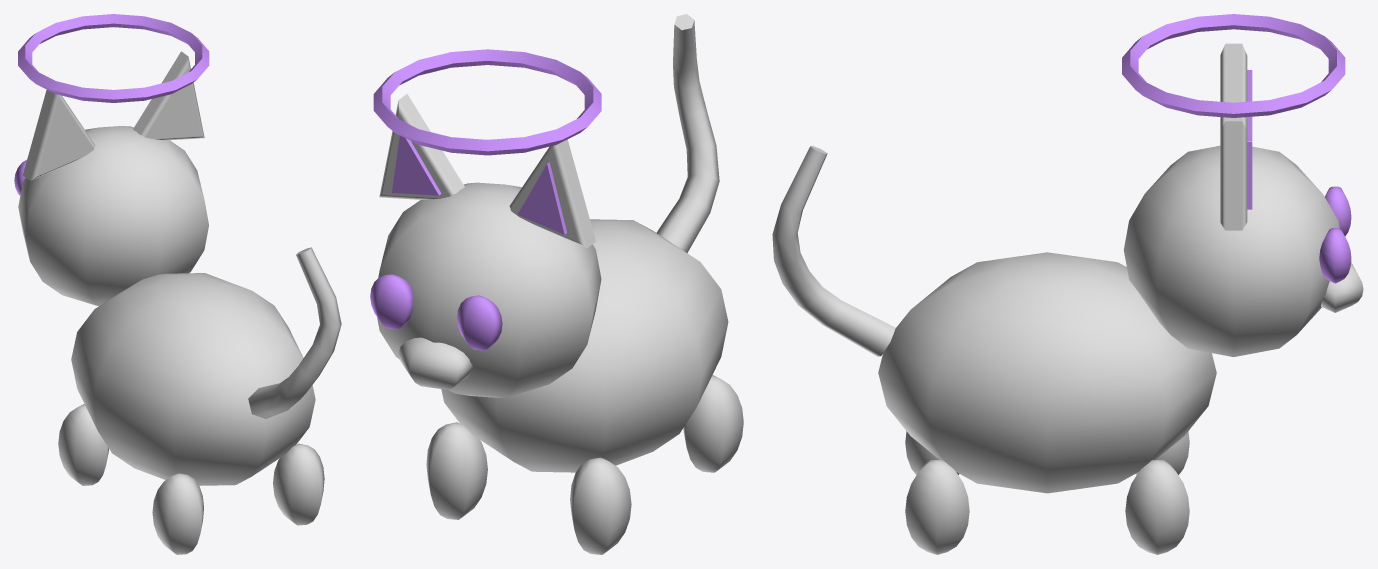
File: VoidKitten.glb
The picture shows the model from 3 angles, left to right: view 1: azimuth 30°, elevation 25°; view 2: azimuth 150°, elevation 25°; view 3: azimuth 270°, elevation 25°; orthographic projection. The views are drawn at different scales.
Visible parts, largest first — view 1: Body, Glow; view 2: Body, Glow; view 3: Body, Glow.
Part boxes in pixels (x1,y1,x2,y2): Body: (18, 51, 341, 554); Glow: (14, 14, 209, 195); Body: (377, 14, 743, 554); Glow: (370, 49, 601, 350); Body: (772, 43, 1363, 554); Glow: (1122, 14, 1351, 283).
Size of the model in its own units: 1.6 by 3 by 3.49.
